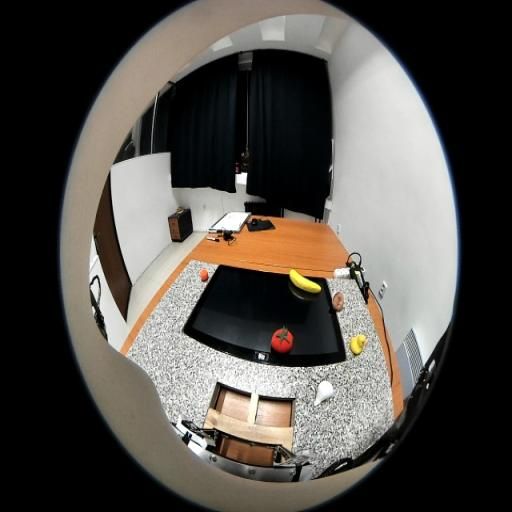Banana: (289, 268, 322, 293)
Duck: (350, 334, 366, 355)
Mushroom: (332, 292, 344, 311)
Onion: (314, 380, 333, 406)
Orange: (200, 269, 208, 281)
Tomato: (270, 326, 294, 354)
